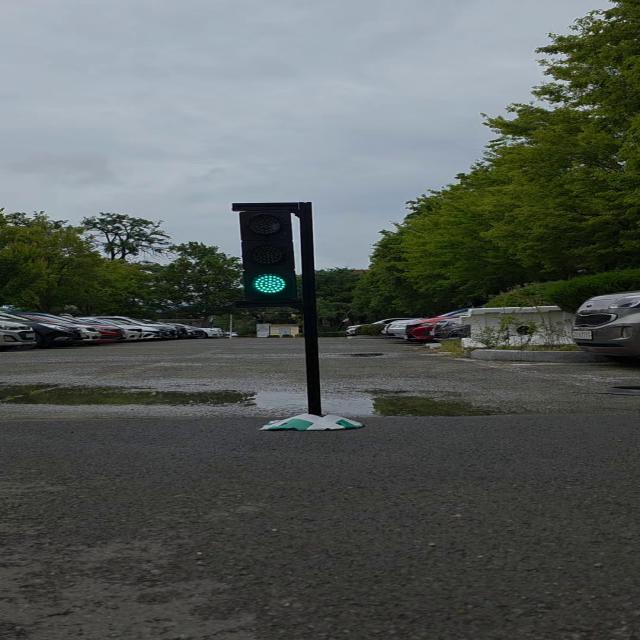green: (242, 204, 314, 307)
